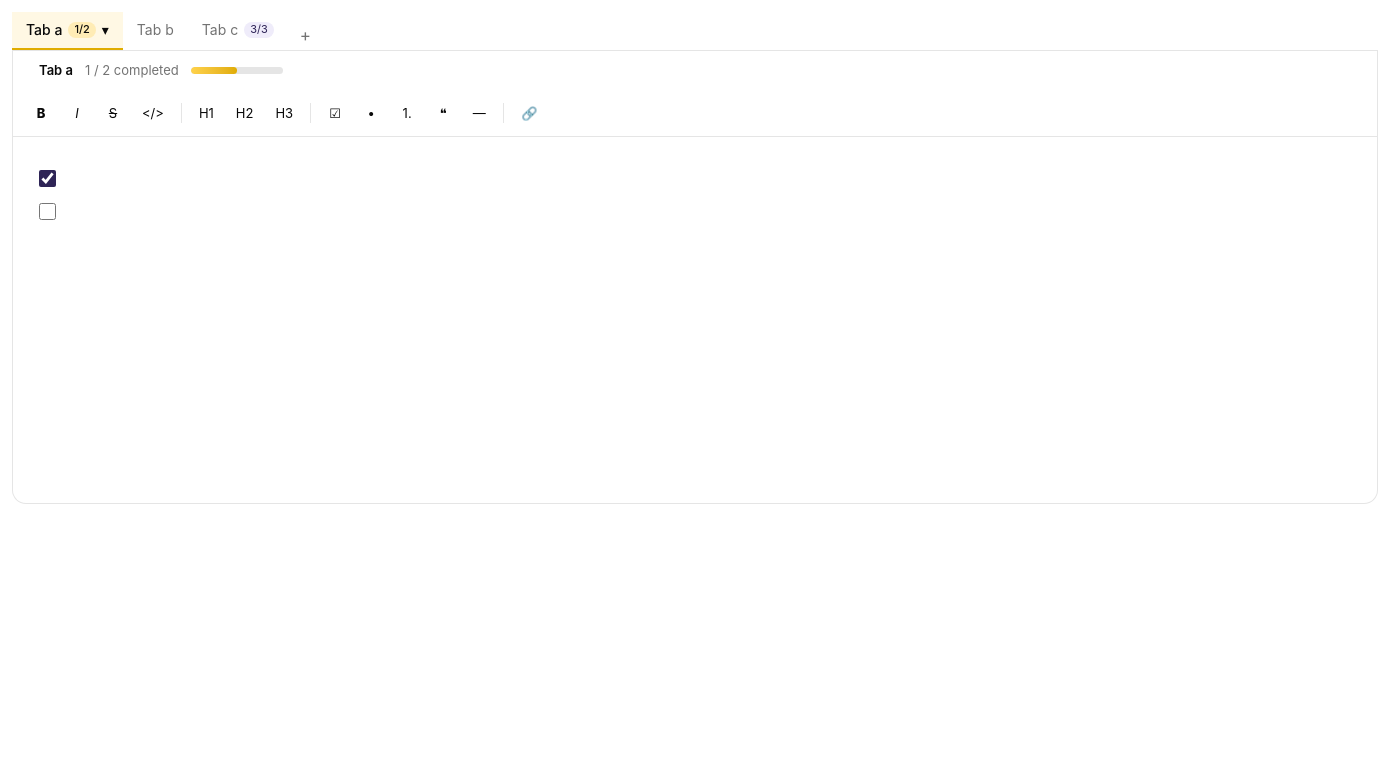
Test: moving a tab › shows the sentence a refused reorder came back with
This screenshot has width=1378, height=780.
Step 1. Click the tab "Tab a 1/2 ▾" → [67, 31], box x1=12 y1=12 x2=123 y2=50
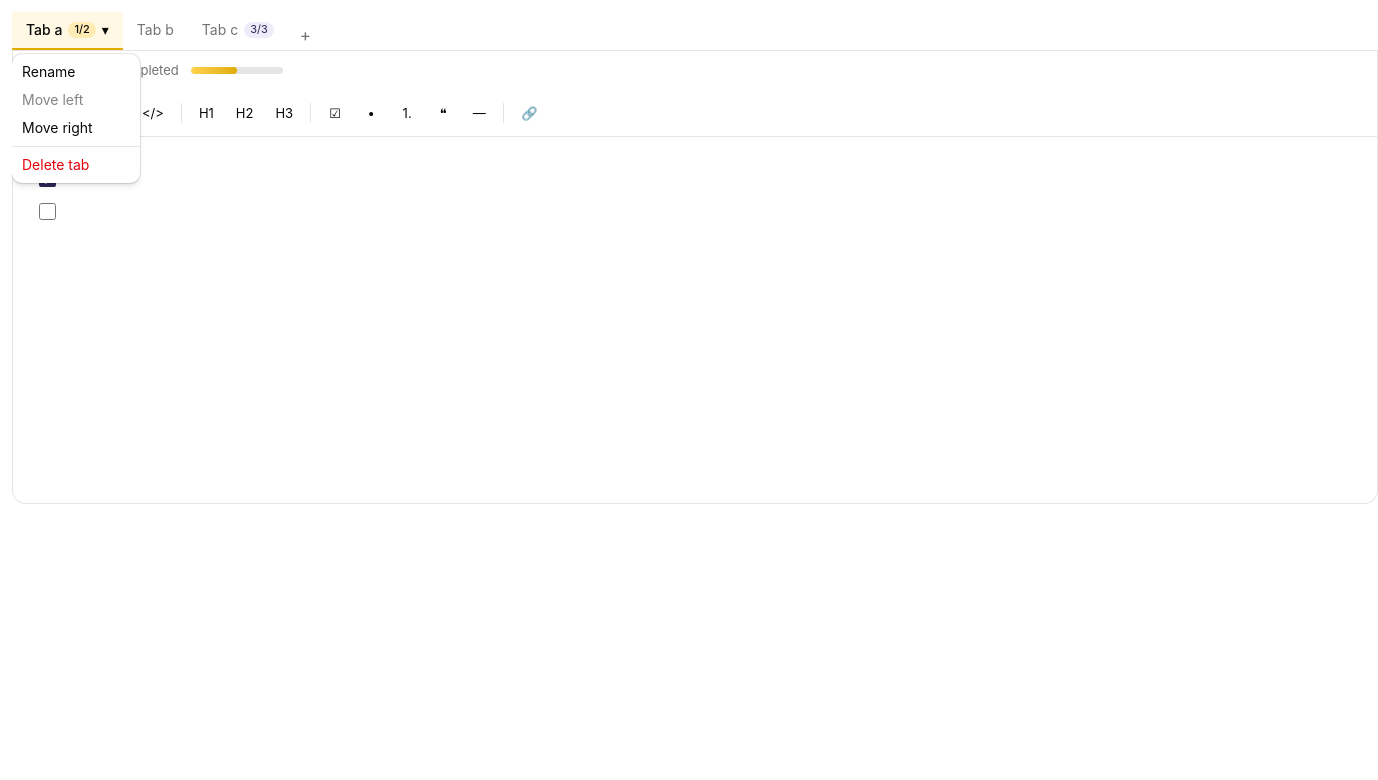
Step 2. Click the menu item "Move right" → [57, 128], box x1=22 y1=119 x2=93 y2=136
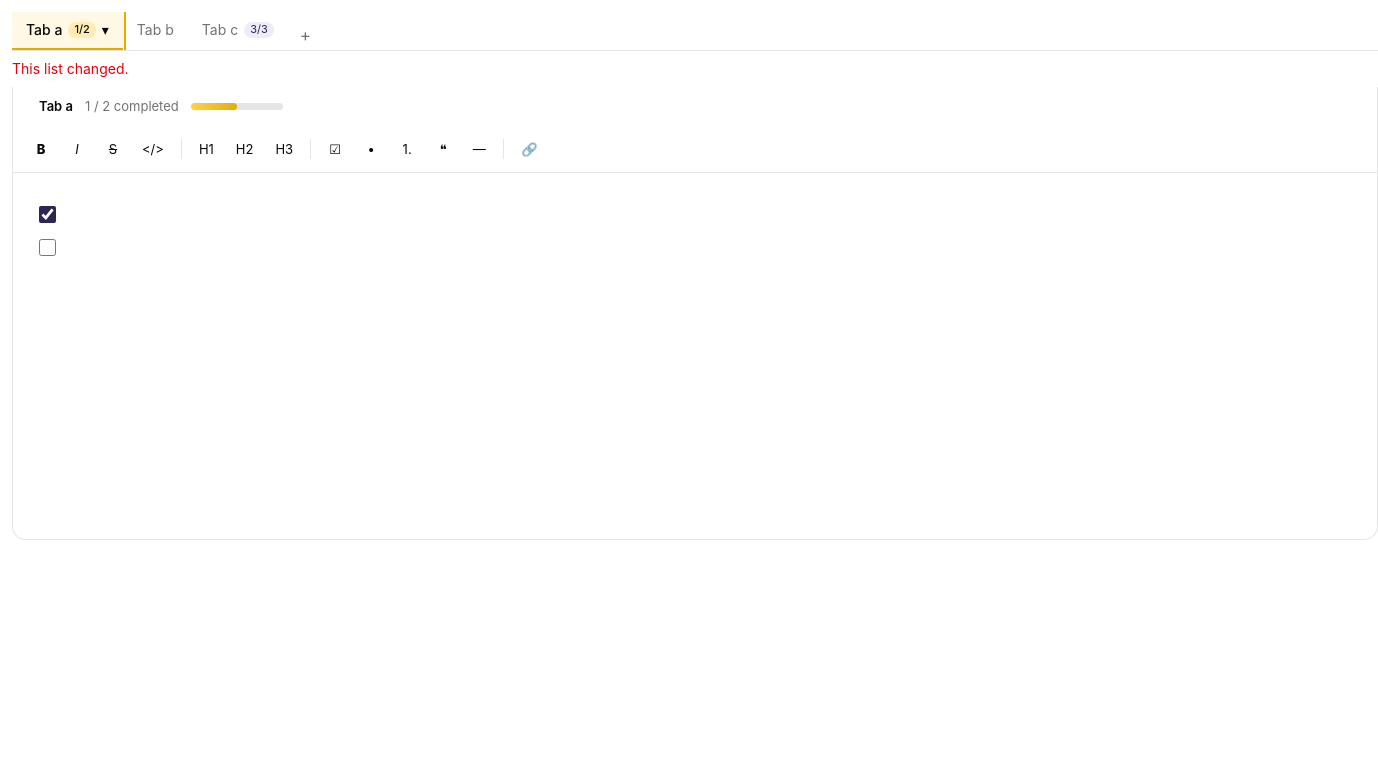
Check: the message reads "This list changed.", box x1=12 y1=60 x2=128 y2=77
